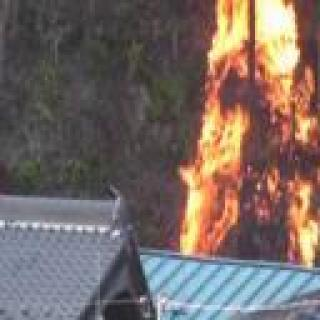fire: (179, 0, 320, 269)
